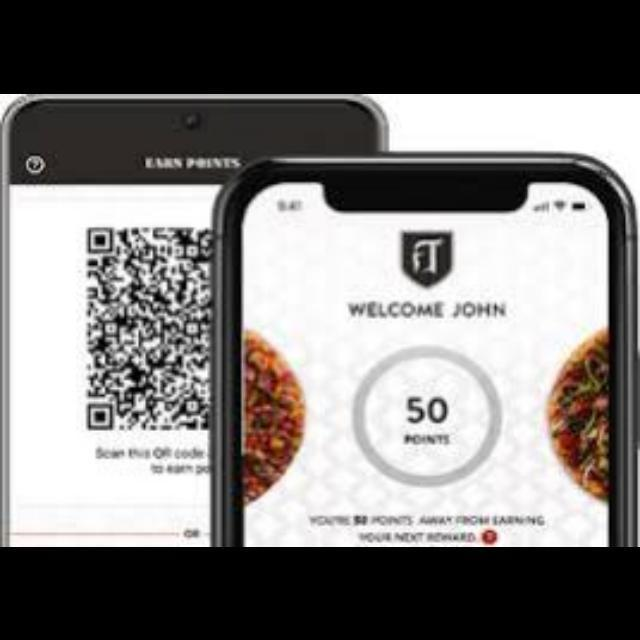PhoneUse: (8, 98, 384, 546), (212, 160, 628, 546)
